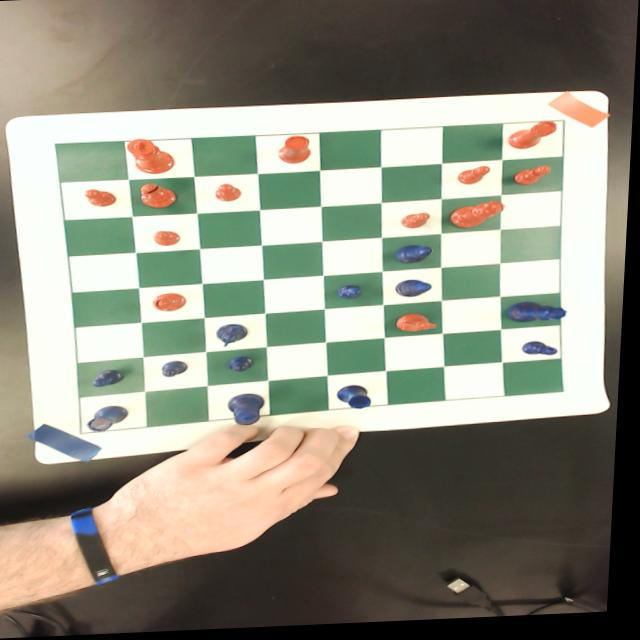B: (397, 247, 436, 268), (398, 281, 436, 302)
K: (231, 394, 271, 427)
N: (219, 325, 253, 348)
P: (525, 344, 564, 362), (95, 369, 130, 388), (165, 361, 193, 379), (231, 357, 260, 374), (340, 287, 366, 302)
Q: (509, 304, 572, 327)
R: (91, 404, 134, 433), (340, 386, 377, 413)
b: (140, 182, 180, 210), (156, 294, 191, 313)
k: (127, 138, 179, 176)
n: (399, 316, 440, 335)
p: (514, 169, 555, 191), (459, 169, 494, 189), (86, 188, 121, 208), (403, 216, 434, 233), (218, 184, 245, 203), (155, 230, 185, 247)
q: (450, 204, 509, 232)
r: (509, 124, 559, 154), (280, 137, 313, 166)
